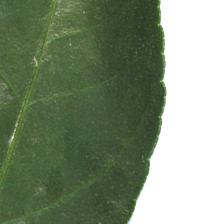healthy: (2, 0, 167, 224)
